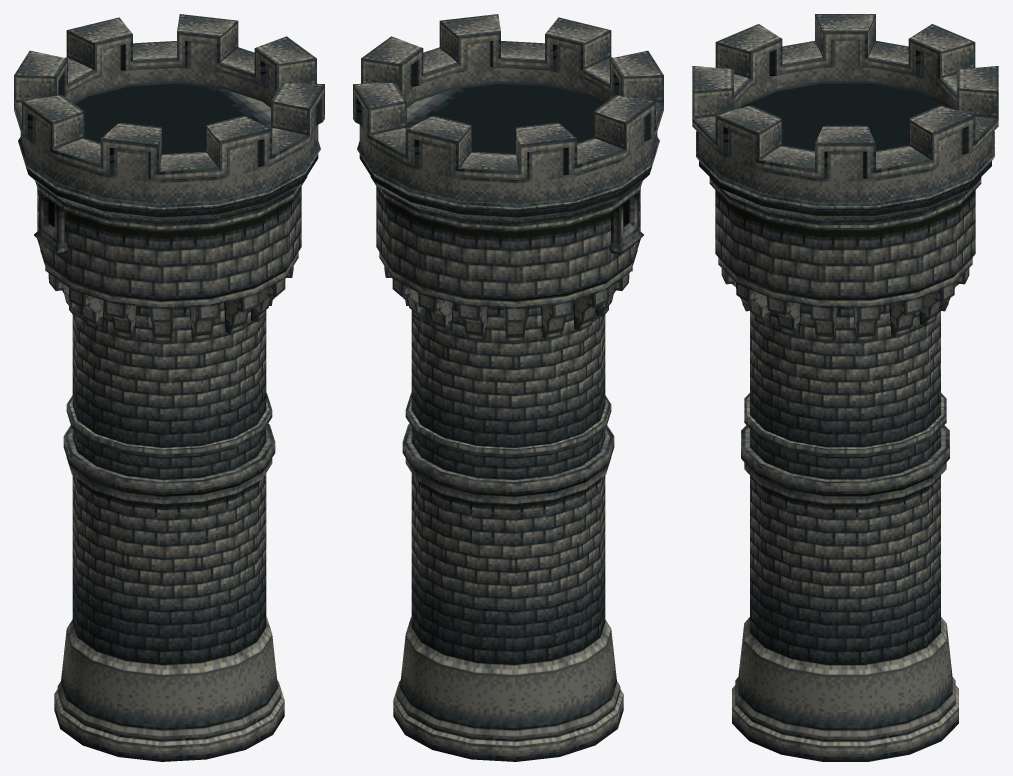
File: EnvBdgMD_Castle_Rain_A_Tower_C.FBX
The picture shows the model from 3 angles, left to right: view 1: azimuth 30°, elevation 25°; view 2: azimuth 150°, elevation 25°; view 3: azimuth 270°, elevation 25°; orthographic projection.
Parts seen in each view (by area): view 1: EnvBdgMD_Castle_Rain_A_Tower_C; view 2: EnvBdgMD_Castle_Rain_A_Tower_C; view 3: EnvBdgMD_Castle_Rain_A_Tower_C.
Boxes of the visible parts, x1,y1,x2,y2 form: EnvBdgMD_Castle_Rain_A_Tower_C: [14, 14, 324, 761]; EnvBdgMD_Castle_Rain_A_Tower_C: [353, 14, 663, 761]; EnvBdgMD_Castle_Rain_A_Tower_C: [692, 14, 998, 761].
Bounding box in the file's own units: 389 × 890 × 389.
